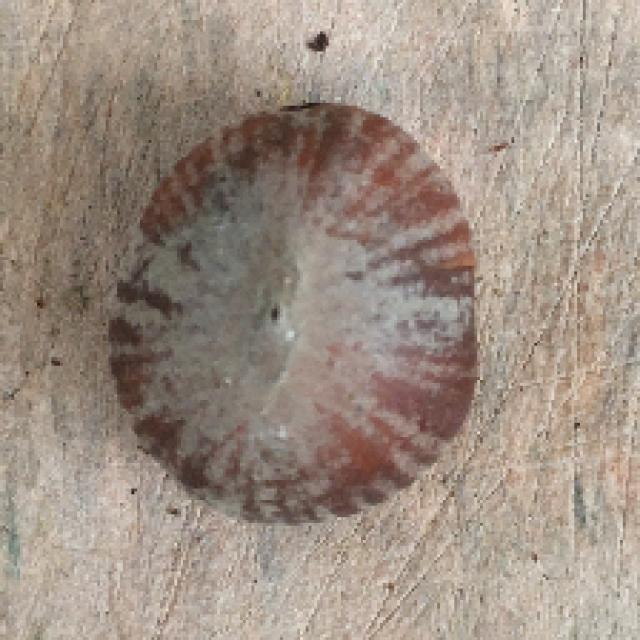damagedHazelnut: (104, 101, 481, 524)
